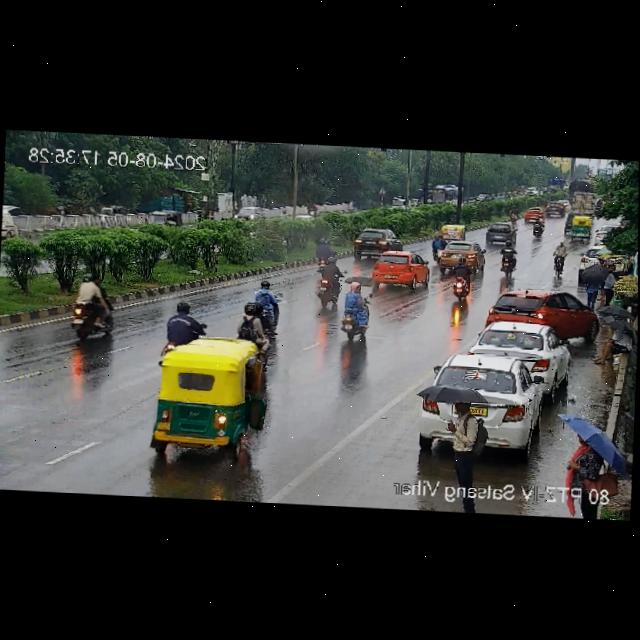bus: (417, 183, 457, 208)
car: (145, 326, 270, 460), (416, 354, 547, 456), (465, 319, 570, 398), (487, 287, 609, 348), (369, 249, 431, 291), (349, 228, 406, 262), (436, 238, 483, 272), (560, 213, 593, 240), (484, 222, 519, 246), (522, 203, 549, 226), (436, 223, 467, 243), (232, 206, 267, 222), (541, 201, 565, 218)
motorcycle: (64, 268, 116, 341), (237, 279, 292, 341), (159, 303, 214, 352), (337, 274, 368, 341), (313, 258, 344, 309), (448, 253, 470, 302), (314, 239, 339, 274), (496, 235, 515, 277), (527, 220, 546, 239), (508, 205, 521, 223), (308, 204, 319, 215)
person: (420, 380, 491, 479), (554, 409, 631, 486), (588, 319, 636, 368), (577, 255, 621, 307)
